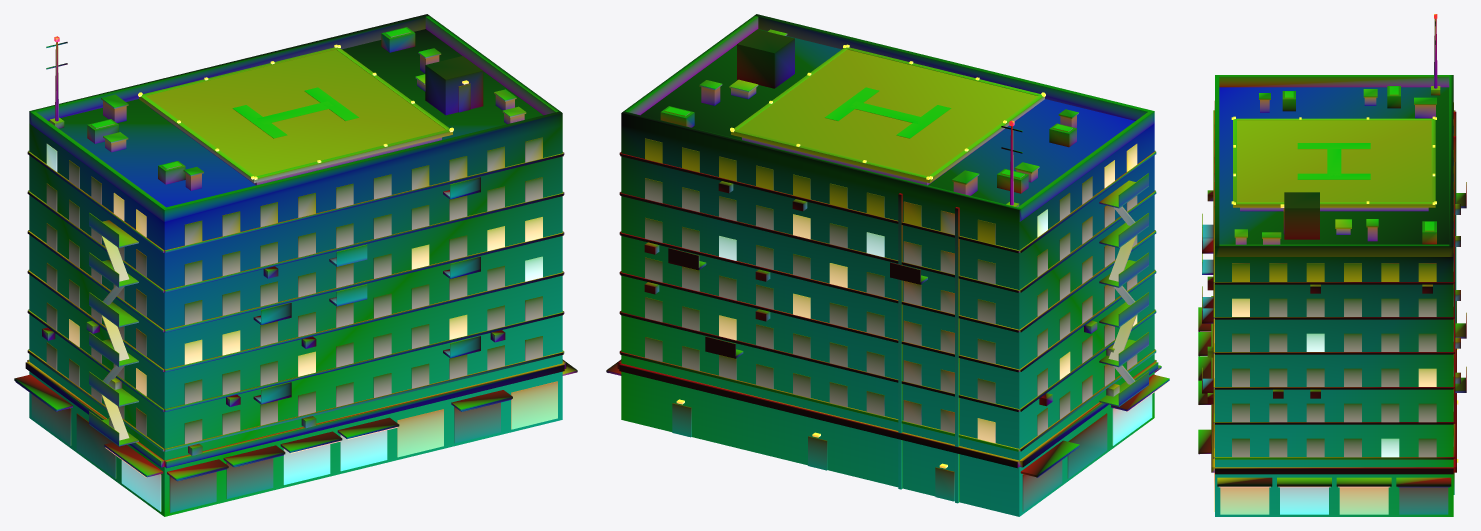
The model's file is Block_Housing_V4.fbx.
3 views of the same model, side by side, from view 1: azimuth 30°, elevation 25°; view 2: azimuth 150°, elevation 25°; view 3: azimuth 270°, elevation 25° (orthographic). The views are drawn at different scales.
Parts seen in each view (by area): view 1: Block_Housing_V4_LOD0; view 2: Block_Housing_V4_LOD0; view 3: Block_Housing_V4_LOD0.
Part boxes in pixels (box(x1,y1,x2,y2)): Block_Housing_V4_LOD0: box(14, 14, 577, 516); Block_Housing_V4_LOD0: box(606, 14, 1169, 516); Block_Housing_V4_LOD0: box(1198, 14, 1466, 516).
Size of what is drawn, in the model's own units: 37.1 by 31.3 by 22.5.
